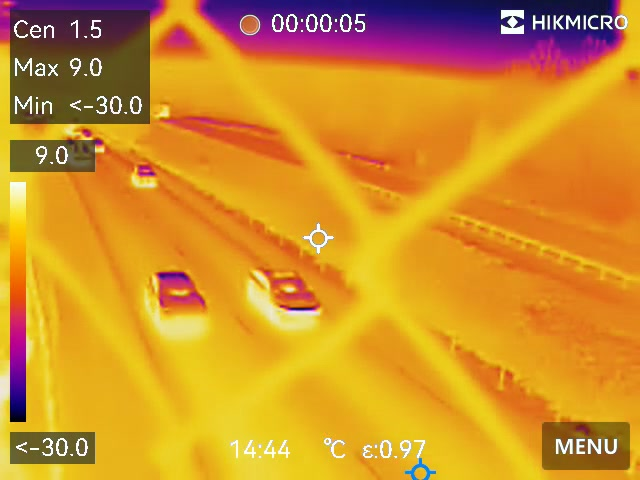smallCar: (241, 263, 324, 327), (145, 267, 208, 334)
vehicle: (131, 161, 161, 189)
